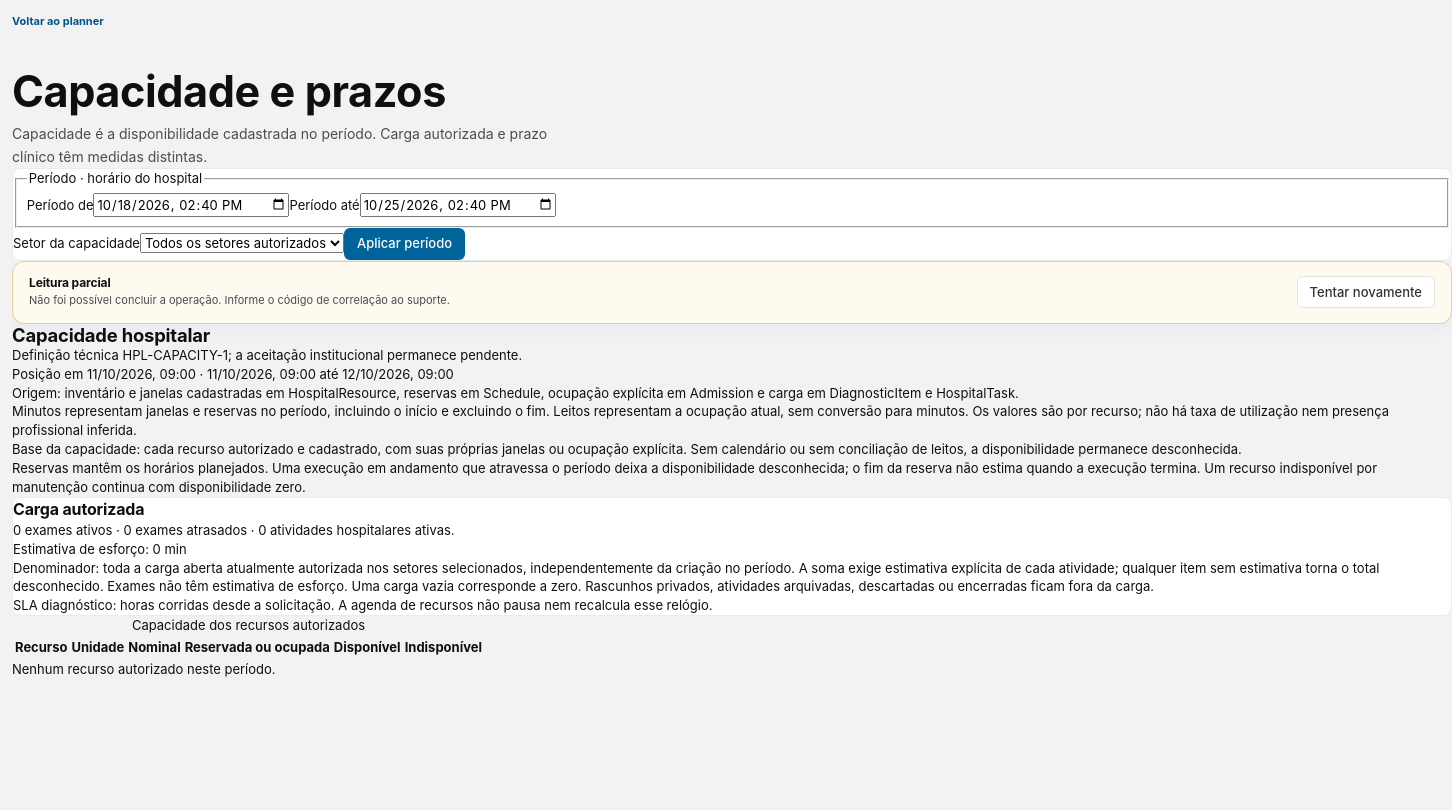
Test: retains confirmed capacity during temporary degradation but removes it after scope revocation and retries into a truly empty inventory
expect the text "Nenhum recurso autorizado neste período." is shown: met, box x1=12 y1=661 x2=276 y2=677
expect the text "Estimativa de esforço: 0 min" is shown: met, box x1=13 y1=541 x2=187 y2=557
Step 1. Click the button "Tentar novamente" → x=1366, y=292, box x1=1297 y1=276 x2=1435 y2=308
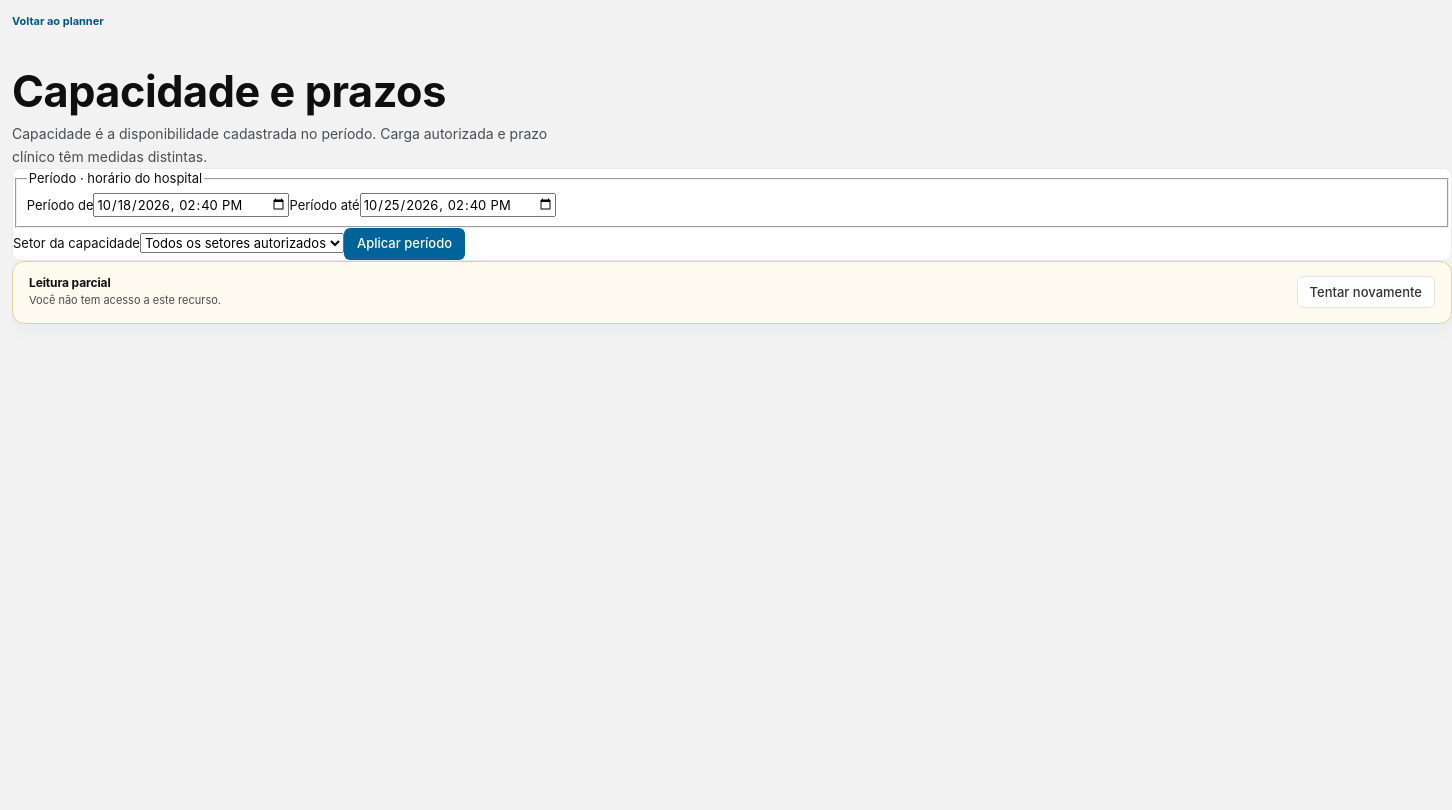
expect the table is gone: met
Step 2. Click the button "Tentar novamente" → x=1366, y=292, box x1=1297 y1=276 x2=1435 y2=308
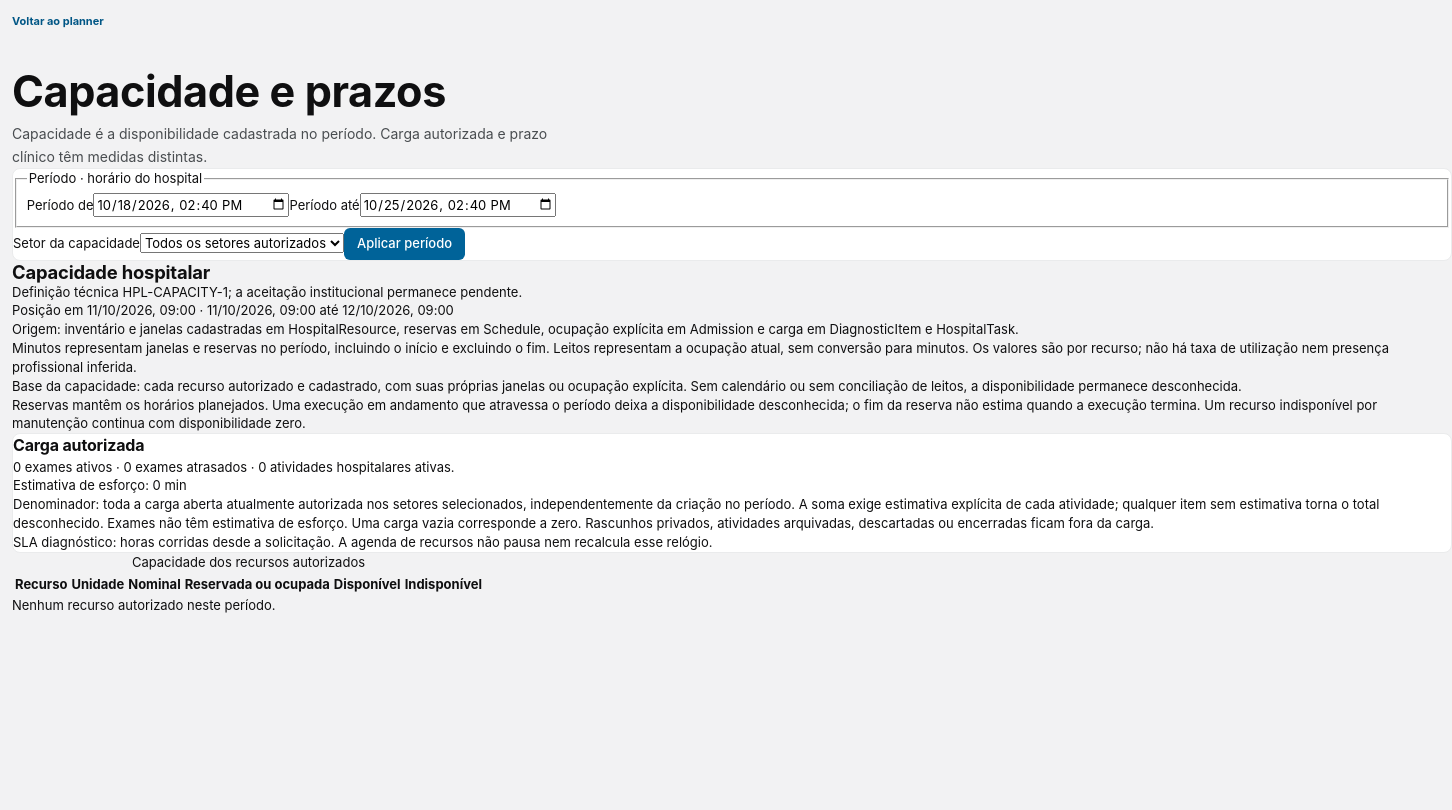
expect the text "Nenhum recurso autorizado neste período." is shown: met, box x1=12 y1=597 x2=276 y2=613
